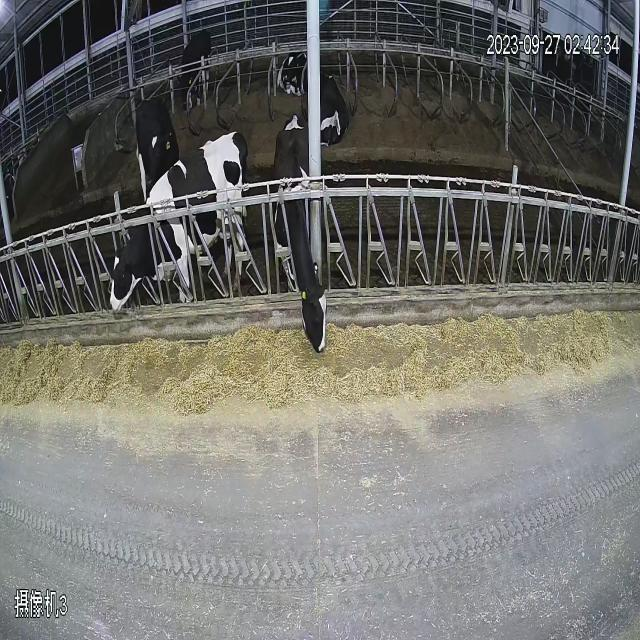feeding: (263, 102, 337, 378)
lying down: (262, 16, 370, 147)
standing: (105, 135, 264, 328), (164, 12, 220, 124), (130, 81, 184, 194)
